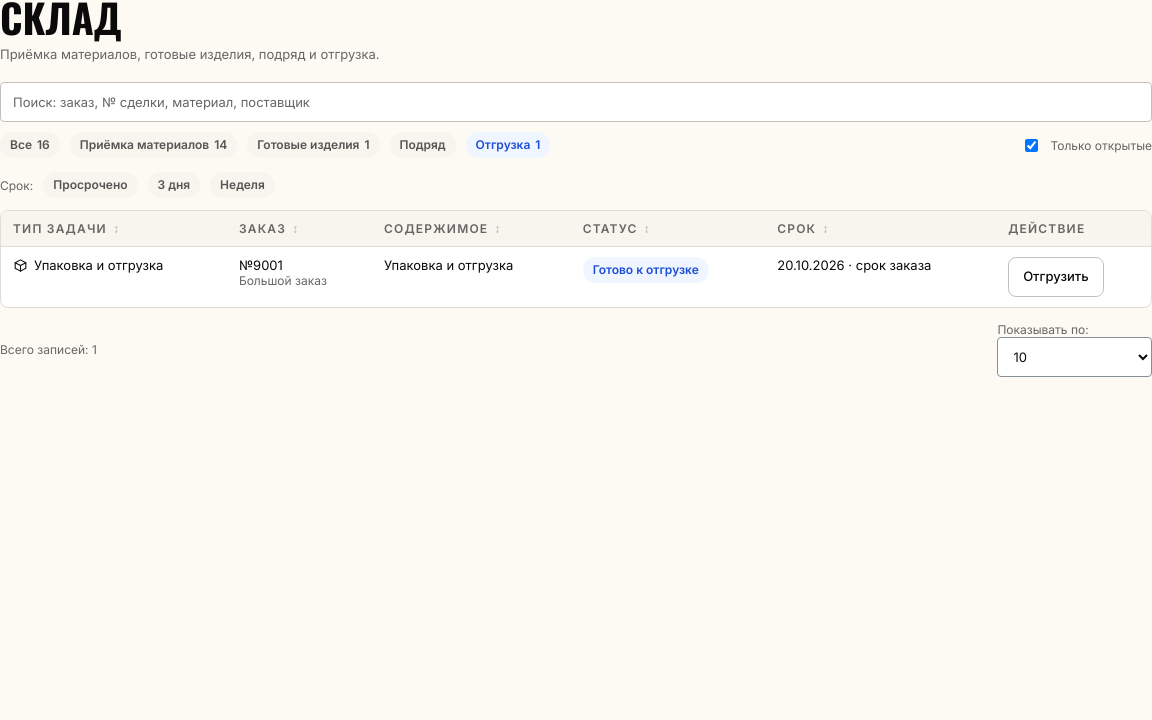
it: Склад — вкладки, поиск, адрес › в отгрузке кнопка «Отгрузить»; кнопка открывает форму, а не проводит операцию
Click the button "Отгрузить". click: [1056, 277]
box: top-left (1008, 257), bottom-right (1104, 297)
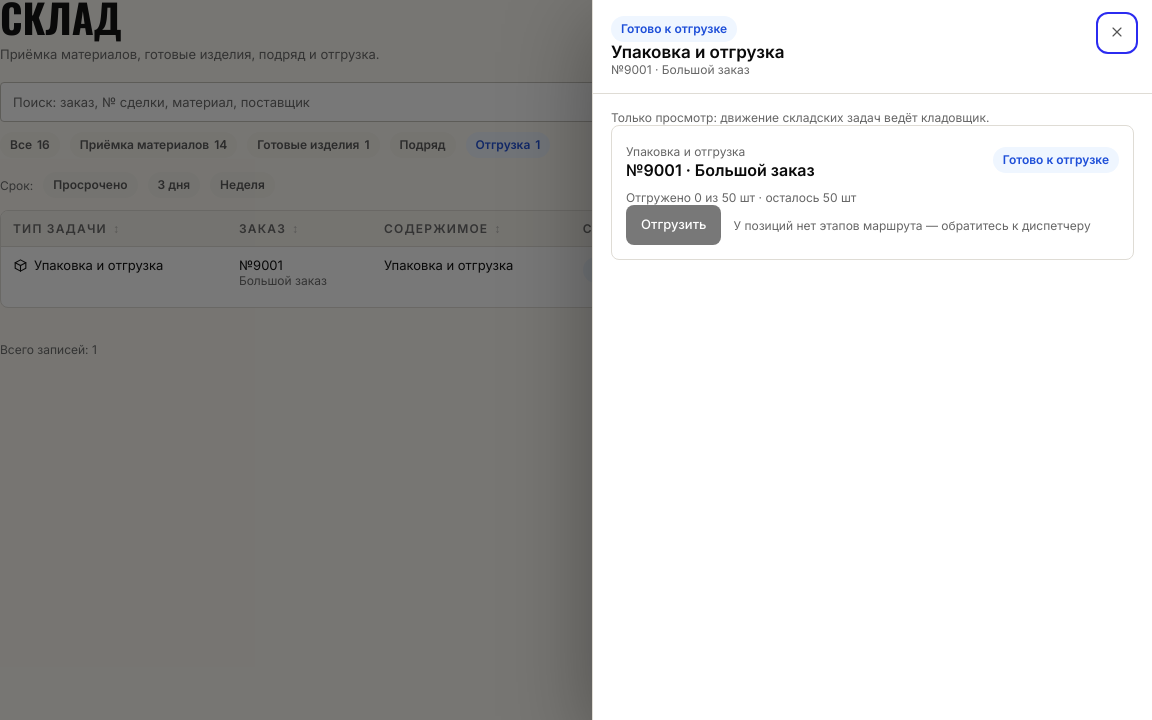
Check: the dialog "Упаковка и отгрузка" is shown, box top-left (592, 0), bottom-right (1151, 719)
